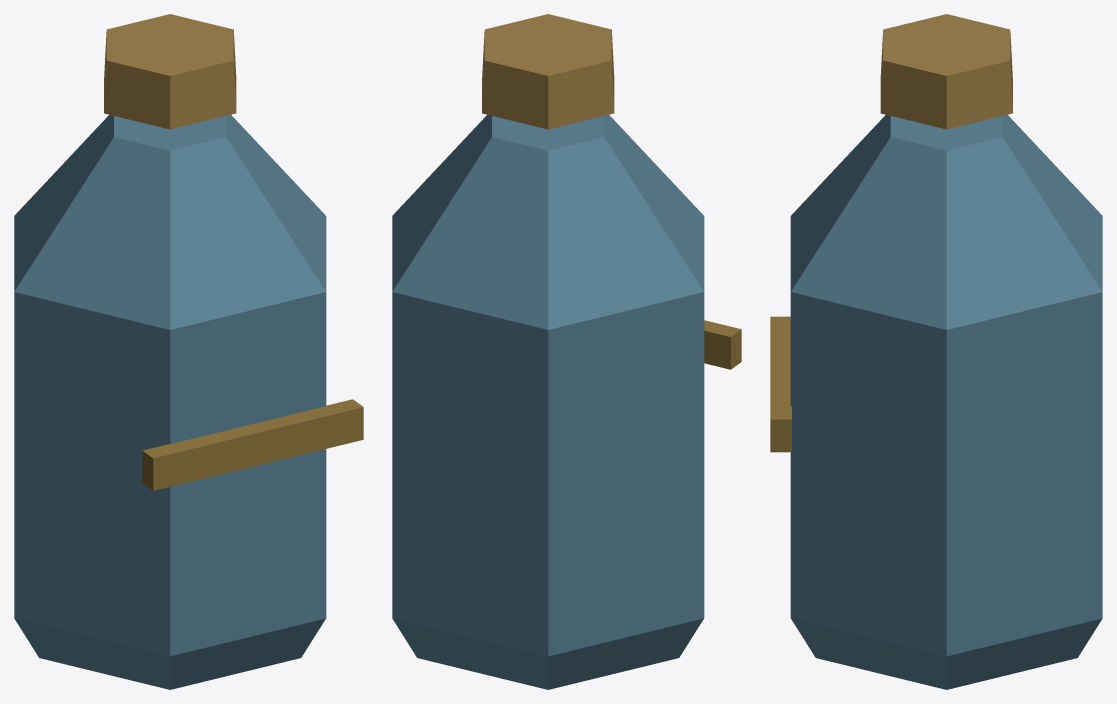
The model's file is x_potion.obj.
3 views of the same model, side by side, from view 1: azimuth 30°, elevation 25°; view 2: azimuth 150°, elevation 25°; view 3: azimuth 270°, elevation 25° (orthographic).
Visible parts, largest first — view 1: x_potion; view 2: x_potion; view 3: x_potion.
Part boxes in pixels (left/top/right/bottom): x_potion: left=14, top=14, right=363, bottom=689; x_potion: left=392, top=14, right=741, bottom=689; x_potion: left=770, top=14, right=1102, bottom=689.
Size of the model in its own units: 1 by 1.78 by 0.923.
